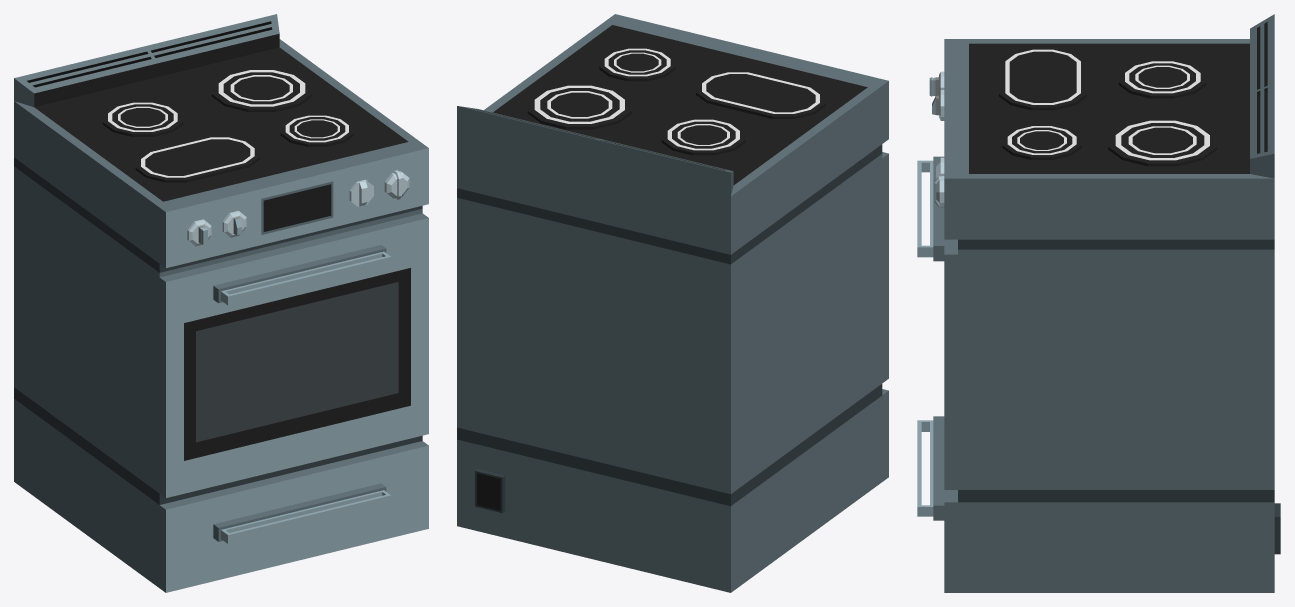
File: KA-F600_Stove_V1.glb
The picture shows the model from 3 angles, left to right: view 1: azimuth 30°, elevation 25°; view 2: azimuth 150°, elevation 25°; view 3: azimuth 270°, elevation 25°; orthographic projection. The views are drawn at different scales.
Visible parts, largest first — view 1: KA-F600_Stove_V1, KA-F600_Stove_V1_Door, KA-F600_Stove_V1_Tray, KA-F600_Stove_V1_KnobV4; view 2: KA-F600_Stove_V1, KA-F600_Stove_V1_Door, KA-F600_Stove_V1_Tray; view 3: KA-F600_Stove_V1, KA-F600_Stove_V1_Door, KA-F600_Stove_V1_Tray.
Boxes of the visible parts, left/top/right/bottom form: KA-F600_Stove_V1: left=14, top=14, right=428, bottom=587; KA-F600_Stove_V1_Door: left=159, top=213, right=428, bottom=497; KA-F600_Stove_V1_Tray: left=159, top=441, right=428, bottom=592; KA-F600_Stove_V1_KnobV4: left=384, top=170, right=409, bottom=199; KA-F600_Stove_V1: left=457, top=14, right=888, bottom=592; KA-F600_Stove_V1_Door: left=882, top=152, right=888, bottom=382; KA-F600_Stove_V1_Tray: left=882, top=389, right=888, bottom=481; KA-F600_Stove_V1: left=944, top=14, right=1280, bottom=592; KA-F600_Stove_V1_Door: left=917, top=156, right=957, bottom=489; KA-F600_Stove_V1_Tray: left=917, top=416, right=957, bottom=592.
Bounding box in the file's own units: 0.6 × 0.88 × 0.6592.
Materials: 2 (2 with a texture image).
